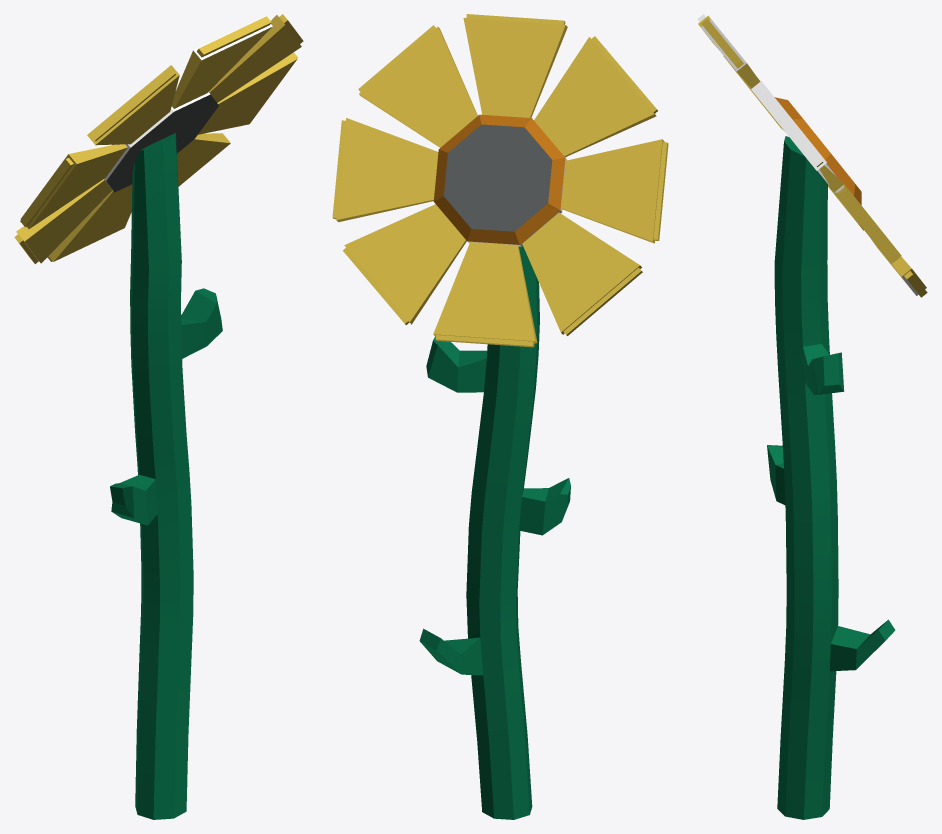
Rendered from girasol (2).fbx.
3 views of the same model, side by side, from view 1: azimuth 30°, elevation 25°; view 2: azimuth 150°, elevation 25°; view 3: azimuth 270°, elevation 25° (orthographic). The views are drawn at different scales.
Parts seen in each view (by area): view 1: Circle.001; view 2: Circle.001; view 3: Circle.001.
Boxes of the visible parts, x1,y1,x2,y2 form: Circle.001: (14, 14, 303, 819); Circle.001: (332, 14, 668, 819); Circle.001: (697, 14, 927, 819).
Bounding box in the file's own units: 64.7 × 162 × 43.04.
